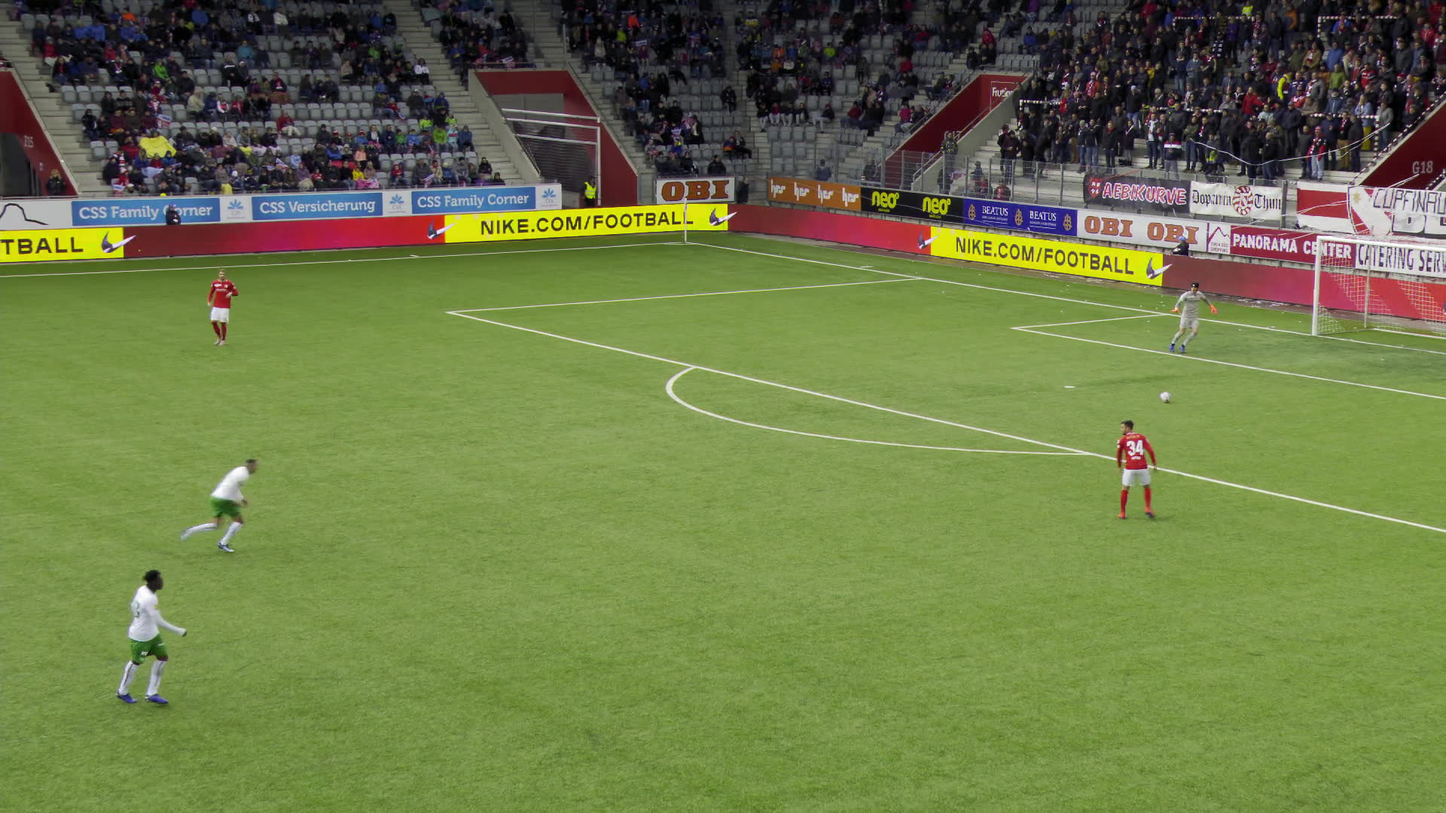ball: (1160, 391, 1171, 403)
player: (114, 570, 187, 710), (185, 458, 258, 556), (1112, 419, 1161, 519), (1166, 283, 1216, 354), (206, 269, 240, 346)
